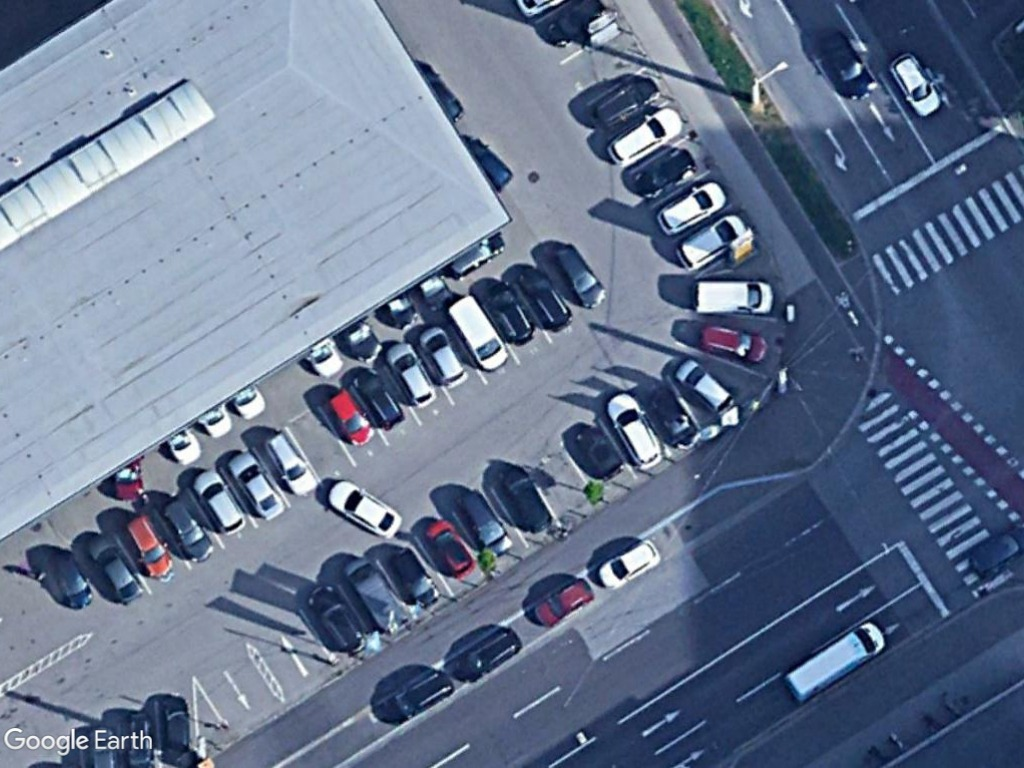car: (602, 104, 688, 168), (627, 138, 709, 201), (324, 478, 405, 539), (303, 581, 368, 657), (378, 660, 455, 723), (256, 426, 320, 501), (651, 179, 730, 239), (85, 532, 146, 608), (673, 212, 747, 272), (548, 240, 608, 314), (512, 264, 576, 333), (454, 485, 512, 559), (887, 48, 944, 122), (452, 624, 527, 680), (498, 458, 552, 535), (587, 77, 665, 130), (160, 490, 216, 563), (691, 317, 771, 368), (228, 447, 282, 521), (384, 337, 438, 411), (592, 536, 661, 592), (671, 357, 734, 416), (480, 282, 536, 348), (125, 509, 174, 583), (194, 467, 246, 536), (525, 577, 593, 629), (350, 368, 406, 431), (416, 327, 468, 392), (327, 386, 378, 452), (424, 516, 476, 580)
van: (779, 618, 888, 708), (344, 551, 412, 639), (443, 292, 510, 371), (607, 388, 667, 474), (691, 277, 775, 318)
